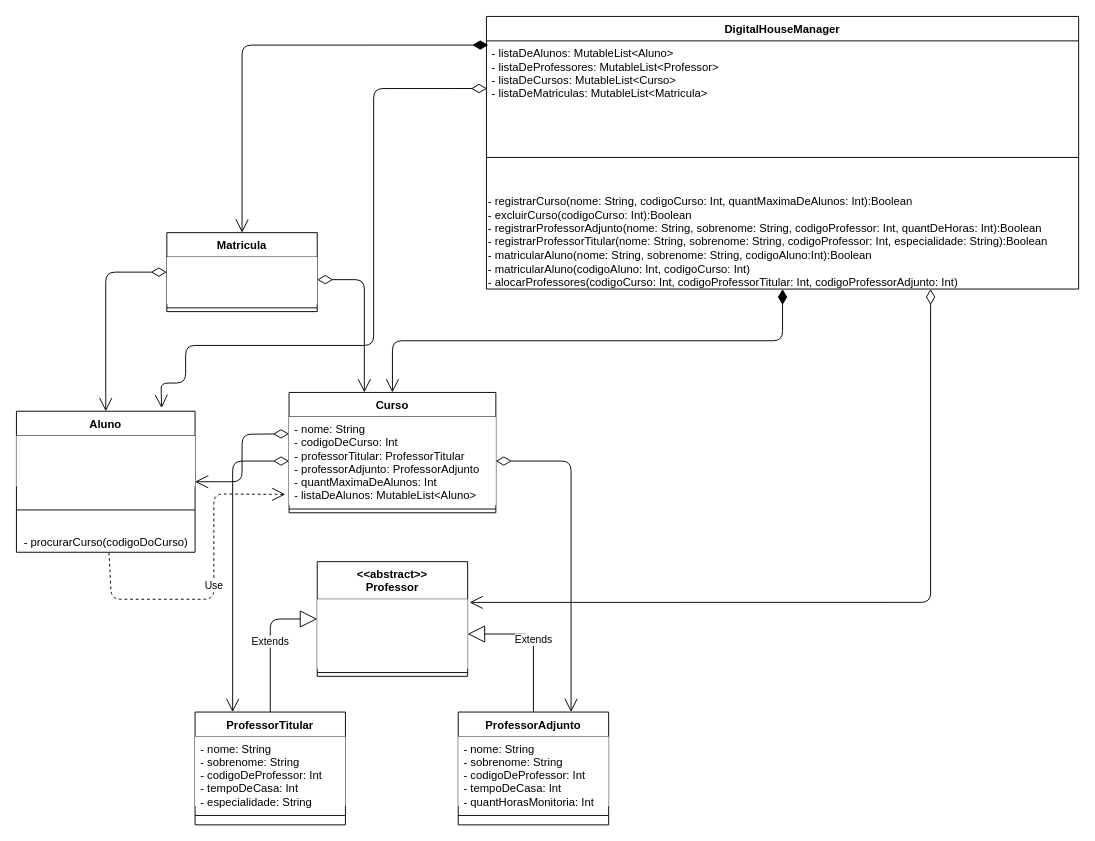
This 1095x841 diagram has some shape labels left out. Here are the shapes that lost their labels. From the top down, the centre of each, then its label:
point 241,280: - aluno: Aluno - curso: Curso - matricula: Date
point 105,460: - nome: String - sobrenome: String - codigoDeAluno: Int
point 392,633: - nome: String - sobrenome: String - codigoDeProfessor: Int - tempoDeCasa: Int
